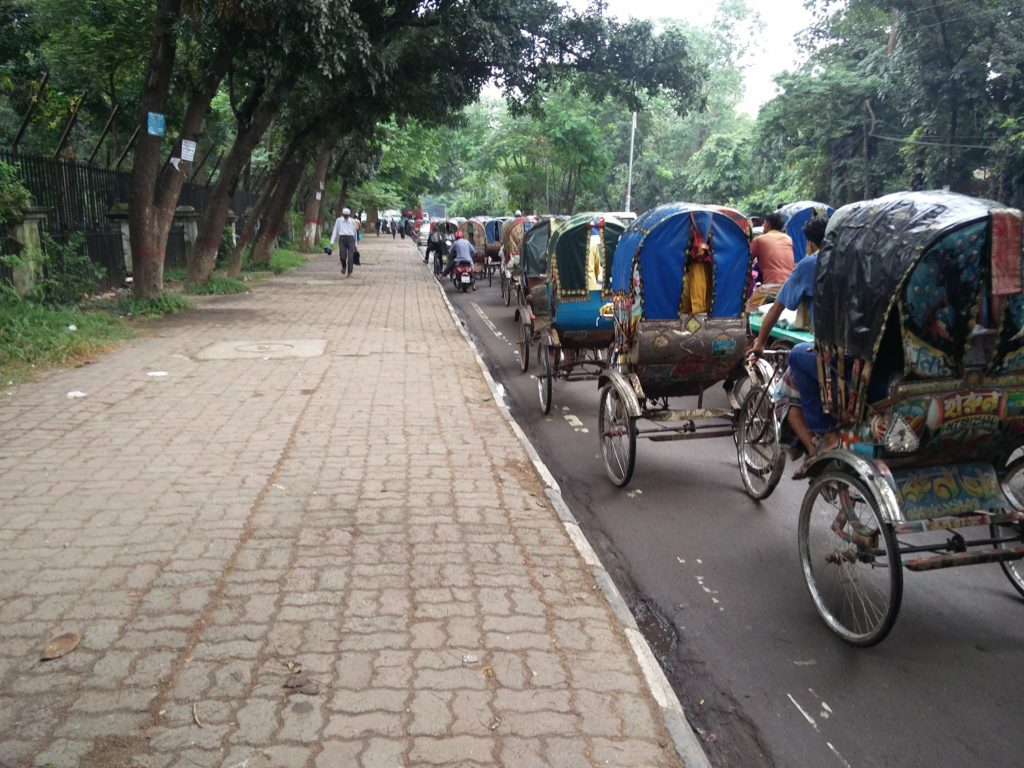Rickshaw: (792, 194, 1023, 621), (607, 184, 787, 490), (546, 200, 648, 403), (519, 204, 596, 385), (499, 204, 534, 290), (447, 199, 486, 268)
